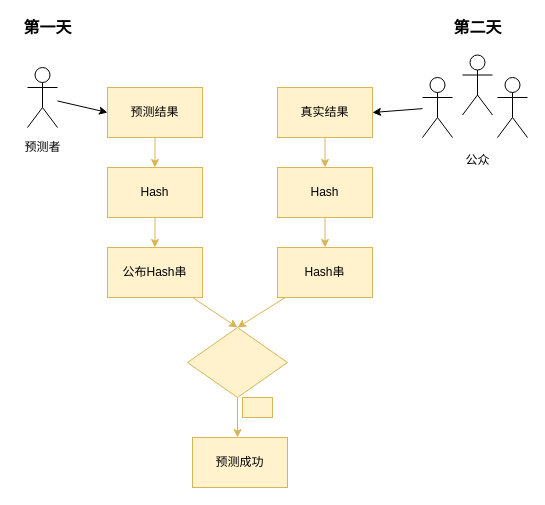
The diagram is 545 pixels wide and 505 high, and some of its shapes have lost their labels. The shapes that lost their labels are listed below. From the top down, each one's centre as x and y in pixels, then its label:
At pixel 237 362: "相等?".
At pixel 257 407: "yes".
